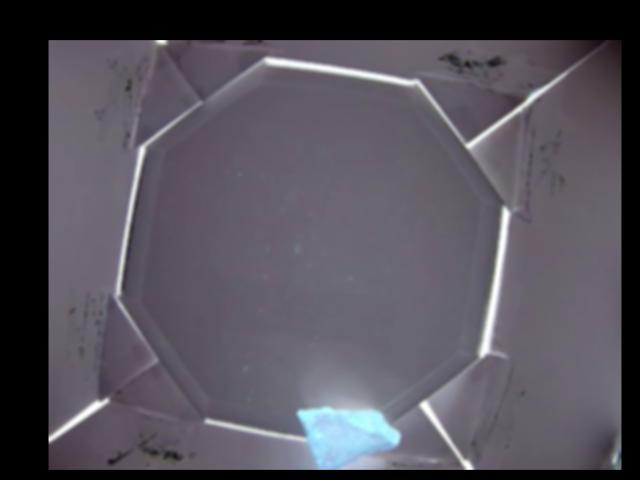Brisk: (295, 407, 401, 468)
